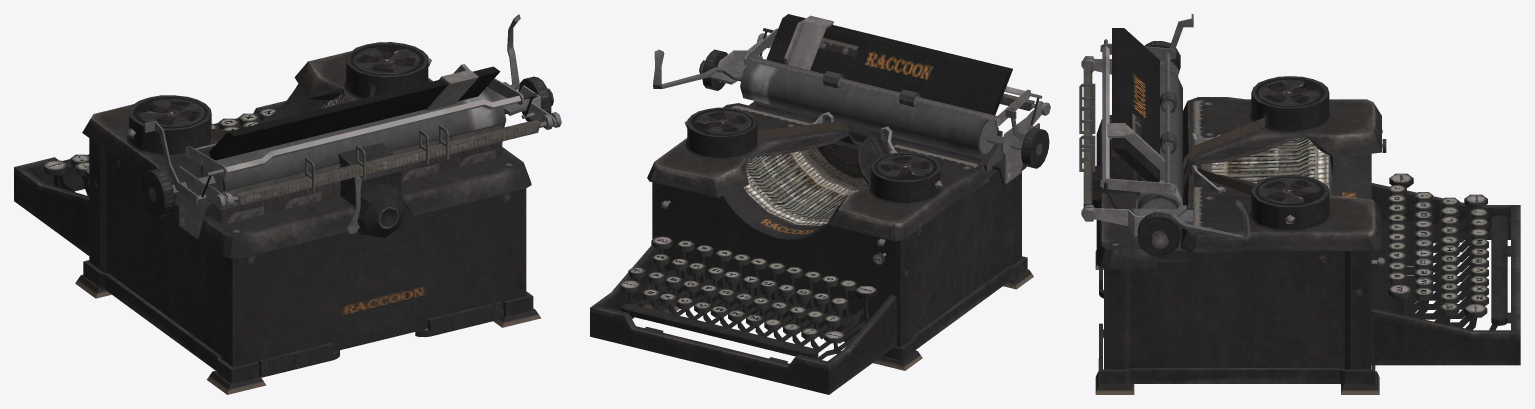
The model's file is typewriter.obj.
3 views of the same model, side by side, from view 1: azimuth 30°, elevation 25°; view 2: azimuth 150°, elevation 25°; view 3: azimuth 270°, elevation 25° (orthographic). The views are drawn at different scales.
Parts seen in each view (by area): view 1: 0; view 2: 0; view 3: 0.
Part boxes in pixels (x1,y1,x2,y2): 0: (14,14,561,394); 0: (590,14,1050,394); 0: (1079,14,1520,394).
Size of the model in its own units: 0.5706 by 0.335 by 0.5682.
1 material, 1 textured.
